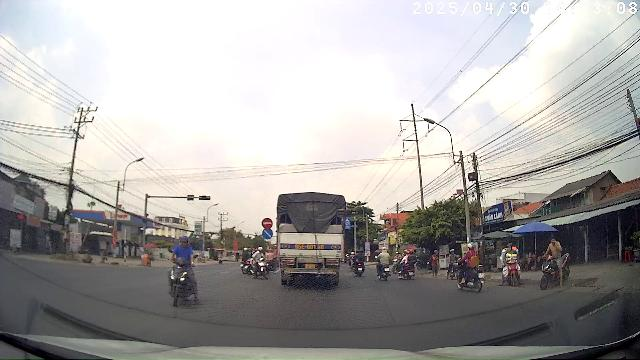102-cam-di-nguoc-chieu: (262, 218, 272, 228)
302a-huong-phai-di-vong-chuong-ngai-vat-1: (262, 229, 272, 239)
